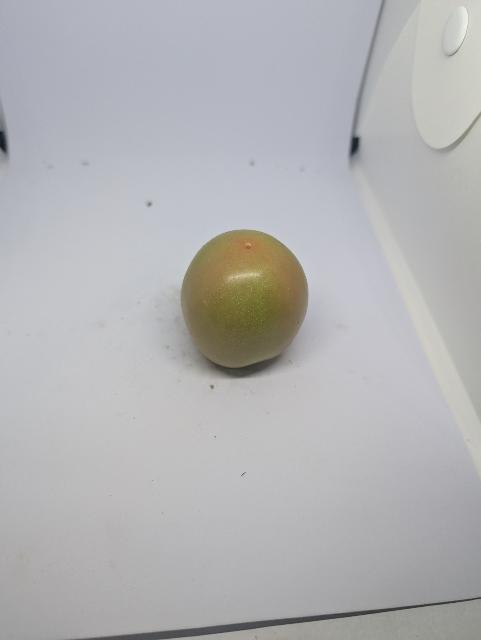breaker: (181, 230, 309, 368)
